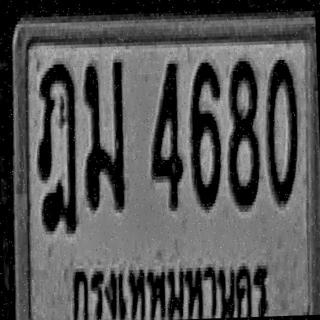A14: (34, 61, 80, 234)
A33: (80, 56, 127, 211)
N00: (264, 56, 300, 204)
N04: (148, 60, 184, 208)
N06: (188, 57, 224, 209)
N08: (225, 57, 261, 209)
P04: (70, 250, 272, 320)
